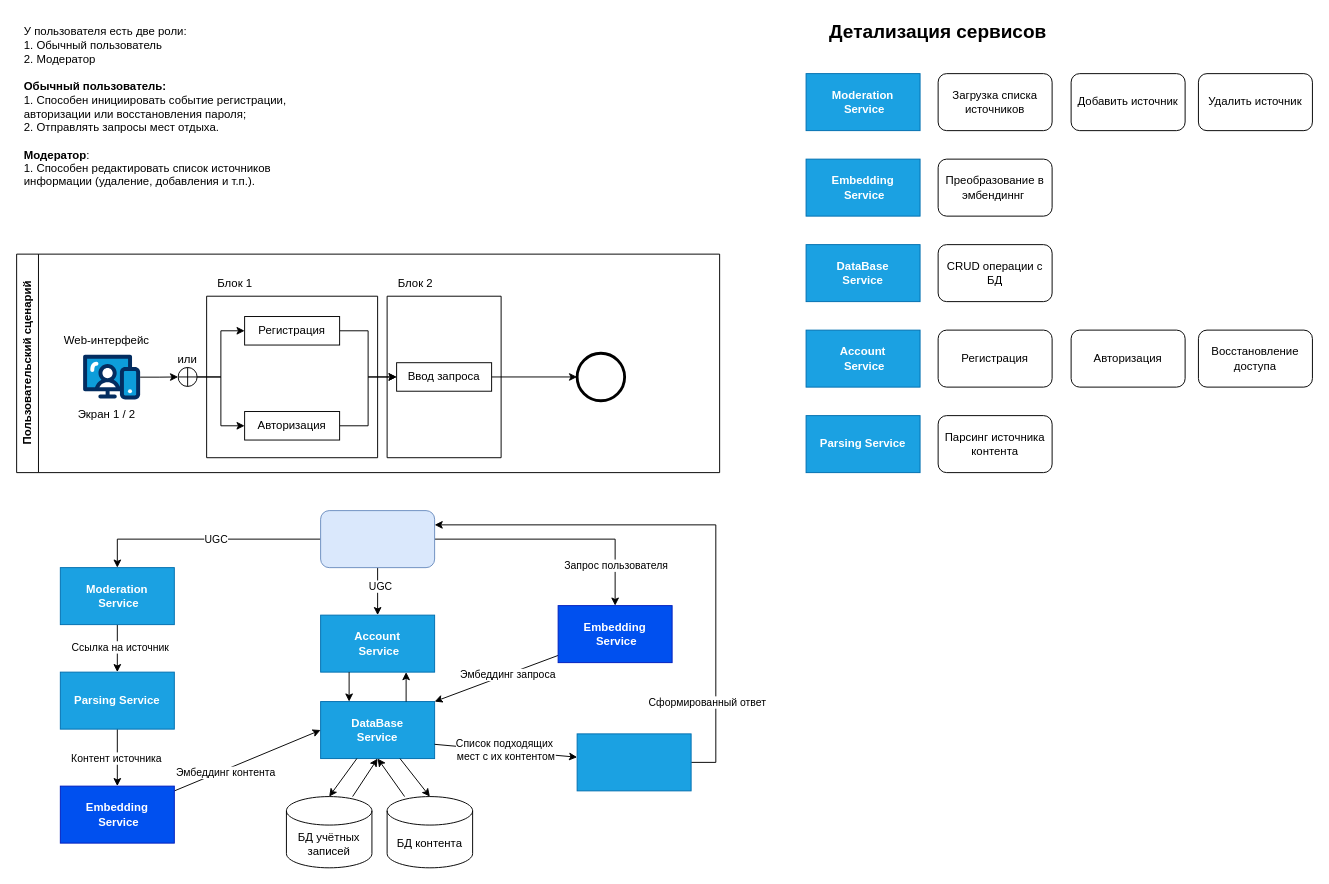
This 1329x884 diagram has some shape labels left out. Here are the shapes that lost their labels. From the top down, the box of each, then its label:
(386, 295, 501, 458): Экран 3
(576, 352, 625, 401): Получение результата
(320, 510, 435, 568): FastAPI
(576, 733, 691, 791): LLM Service
